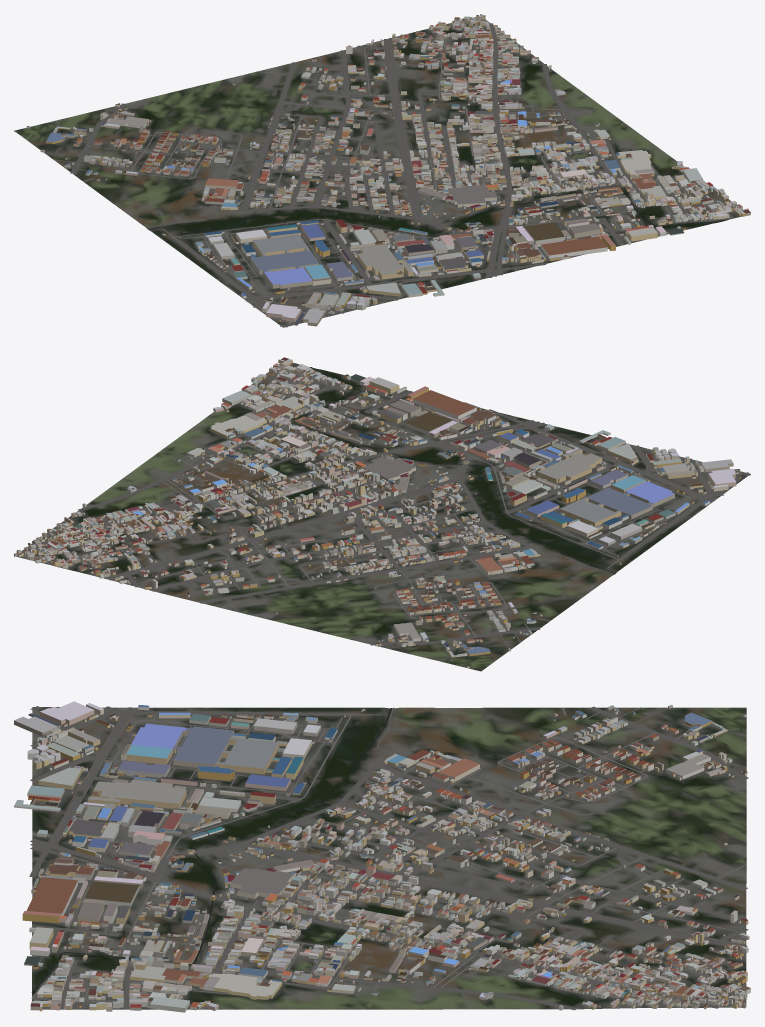
3 renders of one model, top to bottom at view 1: azimuth 30°, elevation 25°; view 2: azimuth 150°, elevation 25°; view 3: azimuth 270°, elevation 25°, orthographic. The views are drawn at different scales.
Parts seen in each view (by area): view 1: ground, buildings, roads, water; view 2: ground, buildings, roads, water; view 3: ground, buildings, roads, water.
Boxes of the visible parts, x1,y1,x2,y2 form: ground: (14, 17, 742, 327); buildings: (26, 14, 750, 326); roads: (45, 20, 734, 327); water: (148, 189, 725, 232); ground: (14, 362, 750, 671); buildings: (14, 357, 741, 668); roads: (21, 371, 750, 648); water: (294, 367, 615, 573); ground: (32, 707, 746, 1009); buildings: (14, 701, 750, 1012); roads: (29, 706, 748, 1010); water: (31, 708, 392, 994).
Bounding box in the file's own units: 1418 × 30.82 × 1445.
